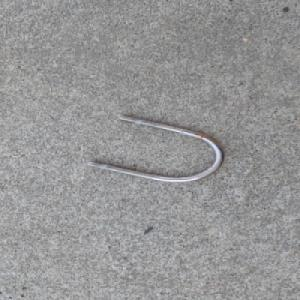ClampPart: (87, 114, 225, 183)
